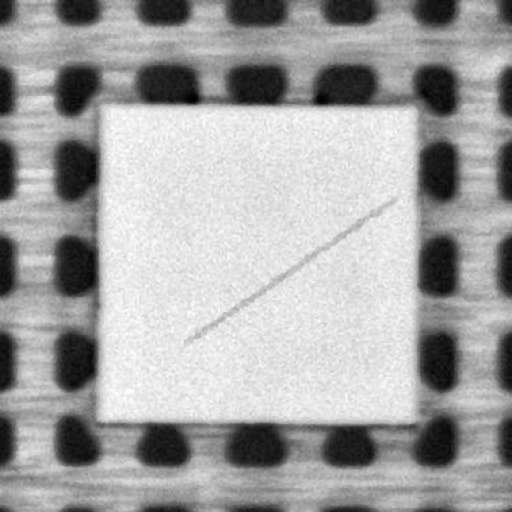DIE_CRACK: (186, 199, 392, 341)
